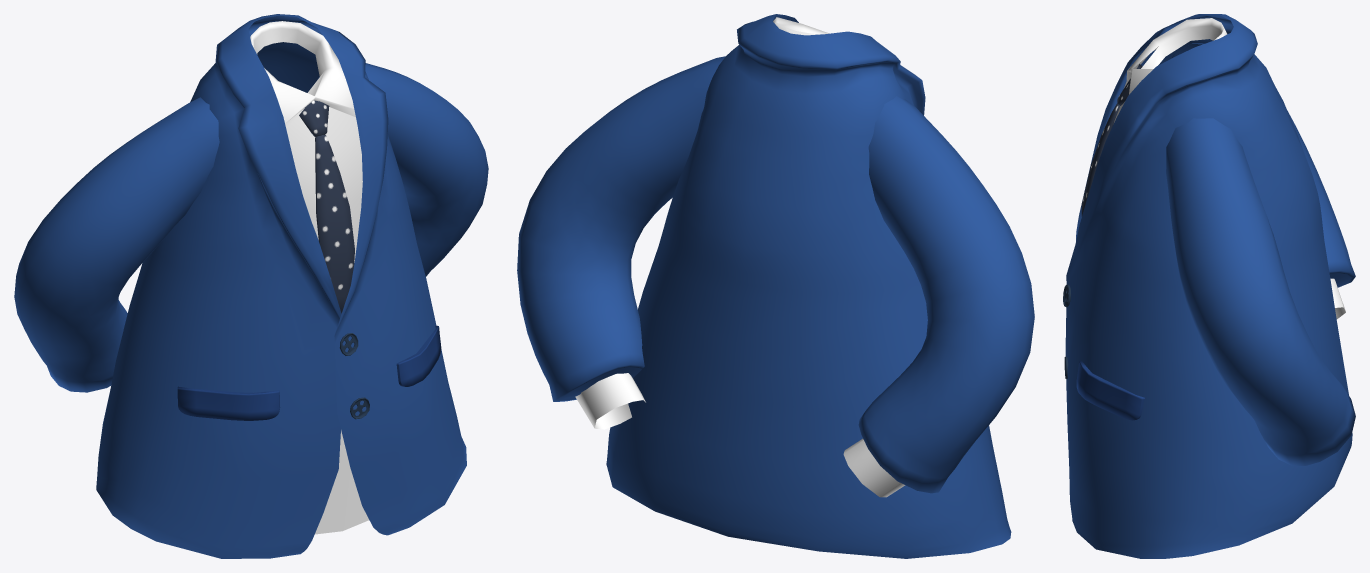
Rendered from SuitAndTie2.FBX.
The picture shows the model from 3 angles, left to right: view 1: azimuth 30°, elevation 25°; view 2: azimuth 150°, elevation 25°; view 3: azimuth 270°, elevation 25°; orthographic projection. The views are drawn at different scales.
Visible parts, largest first — view 1: SuitAndTie; view 2: SuitAndTie; view 3: SuitAndTie.
Boxes of the visible parts, x1,y1,x2,y2 form: SuitAndTie: (14,14,488,558); SuitAndTie: (517,14,1034,558); SuitAndTie: (1063,14,1355,558).
Size of the model in its own units: 29.32 by 28.75 by 16.12.
